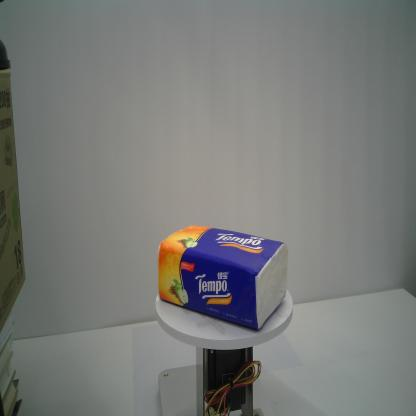Tissue: (157, 224, 287, 331)
